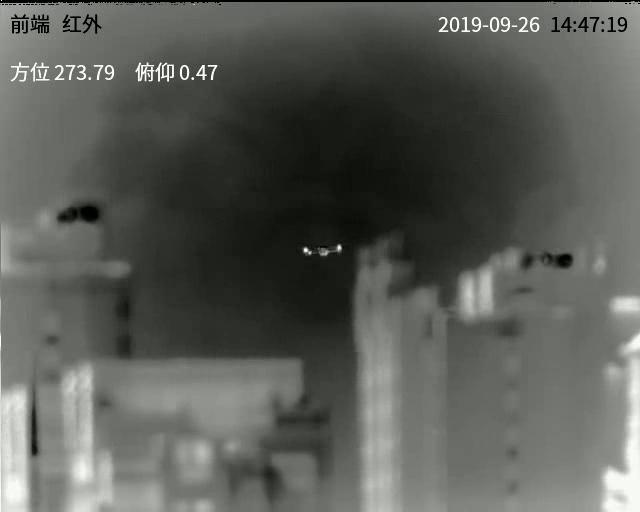DRONE: (302, 243, 343, 258)
